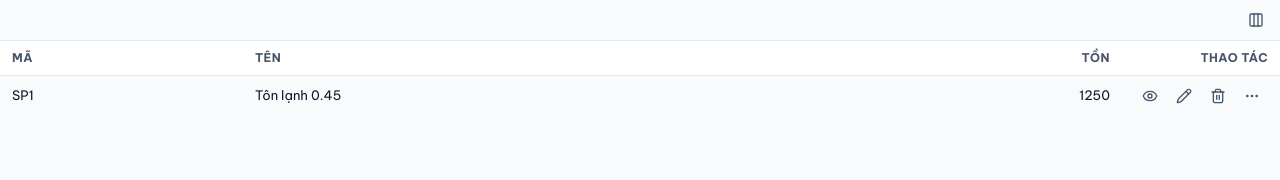
Test: DataTable › cột thao tác chỉ icon có aria-label; quá 3 action → kebab
Check: the button "Khóa" is not shown
Click the button named "Thêm thao tác" at point(1252, 96), box [1236,80,1268,112]
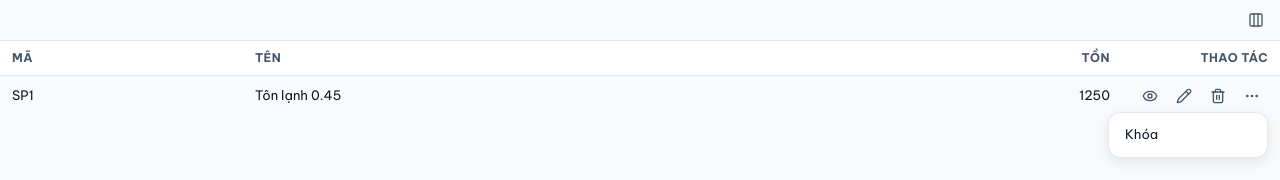
Check: the menu item "Khóa" is shown, box [1125,126,1158,142]
